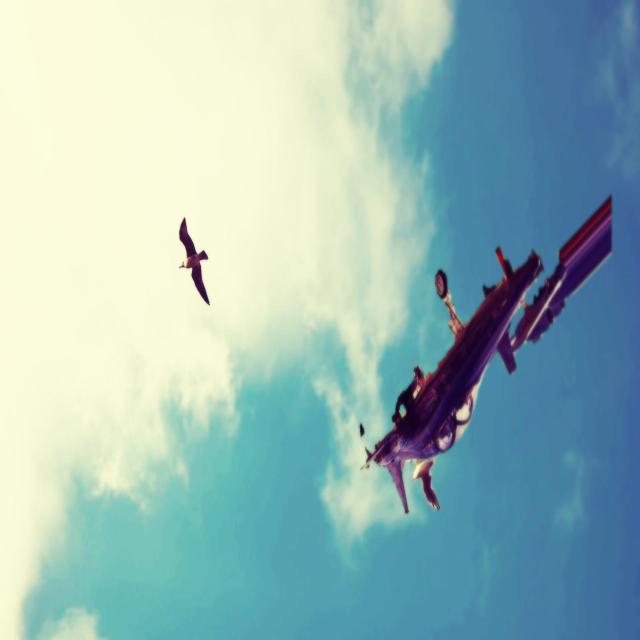airplane: (358, 192, 612, 514)
